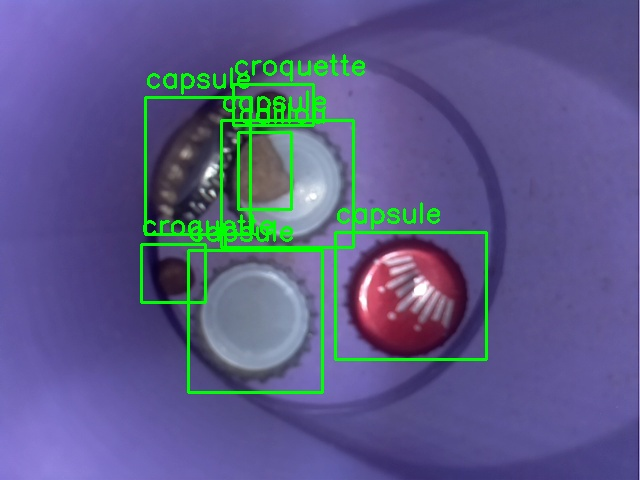caillou: (238, 132, 291, 209)
capsule: (335, 232, 486, 359), (188, 250, 322, 392), (221, 120, 353, 247), (145, 97, 250, 234)
croquette: (141, 244, 205, 302), (233, 84, 313, 125)
